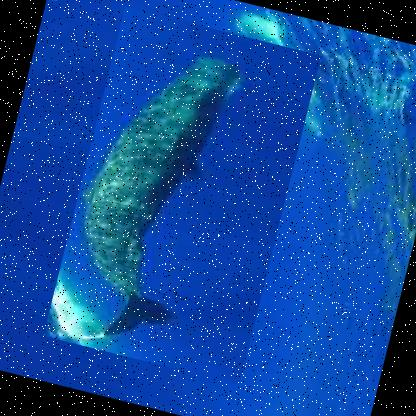sperm_whale: (42, 6, 320, 384)
